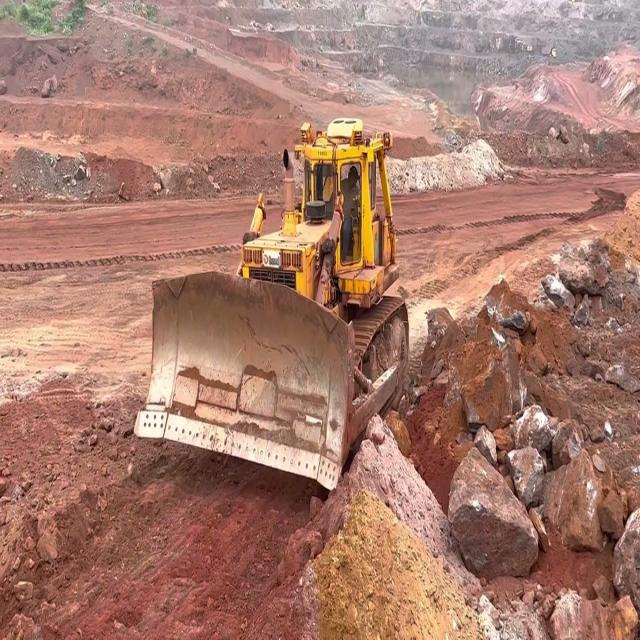buldozerpayloadergrader: (136, 117, 406, 487)
